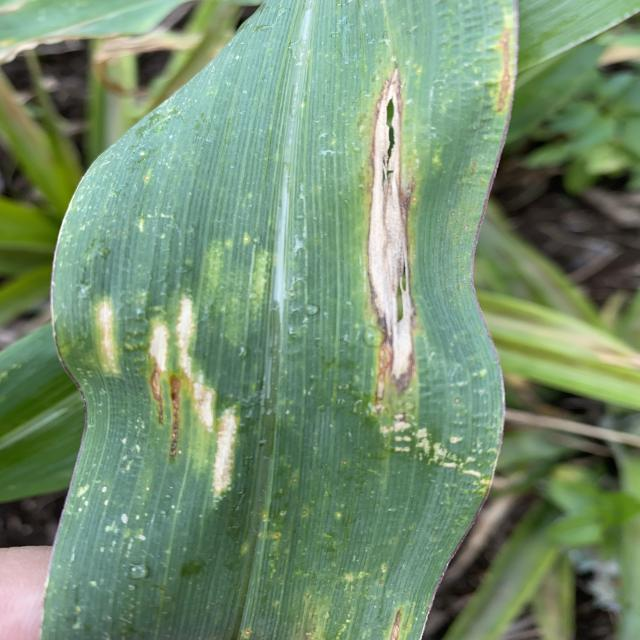Corn_Leaf_Blight: (36, 2, 523, 640)
